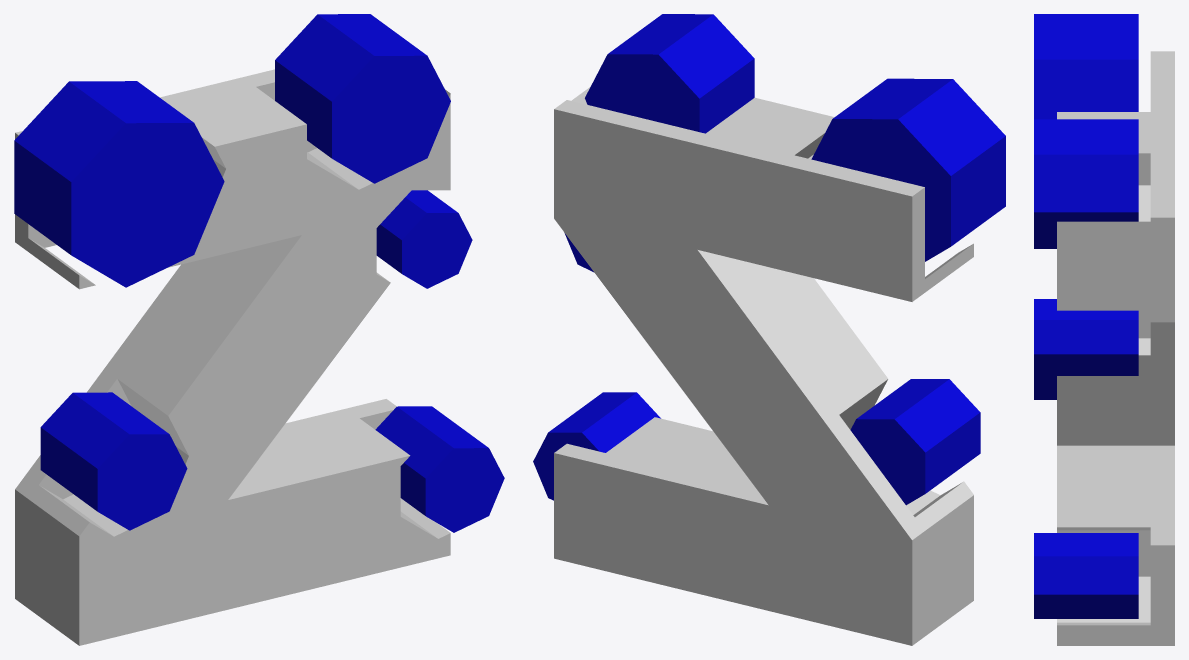
Rendered from Ch_Lite_Z_01.fbx.
3 views of the same model, side by side, from view 1: azimuth 30°, elevation 25°; view 2: azimuth 150°, elevation 25°; view 3: azimuth 270°, elevation 25° (orthographic). The views are drawn at different scales.
Parts seen in each view (by area): view 1: sphere1; view 2: sphere1; view 3: sphere1.
Boxes of the visible parts, <box> form: sphere1: <box>14,14,504,645</box>; sphere1: <box>533,14,1005,645</box>; sphere1: <box>1034,14,1174,645</box>.
Bounding box in the file's own units: 0.7784 × 0.9097 × 0.2387.
